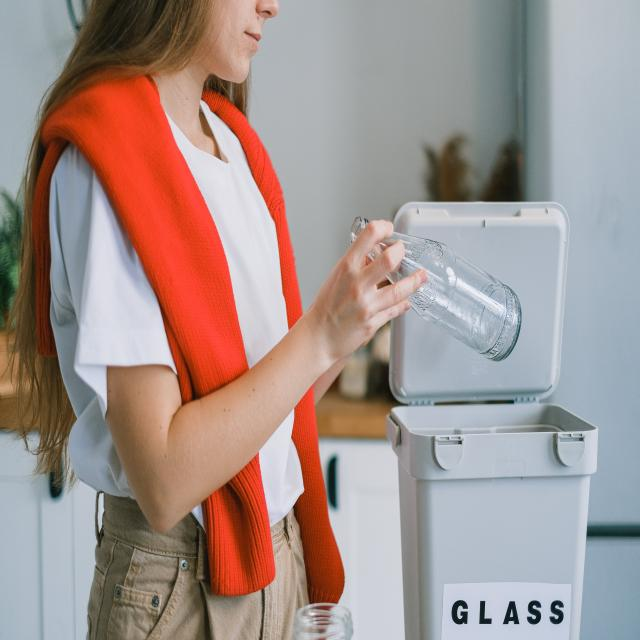glass: (439, 264, 507, 354)
